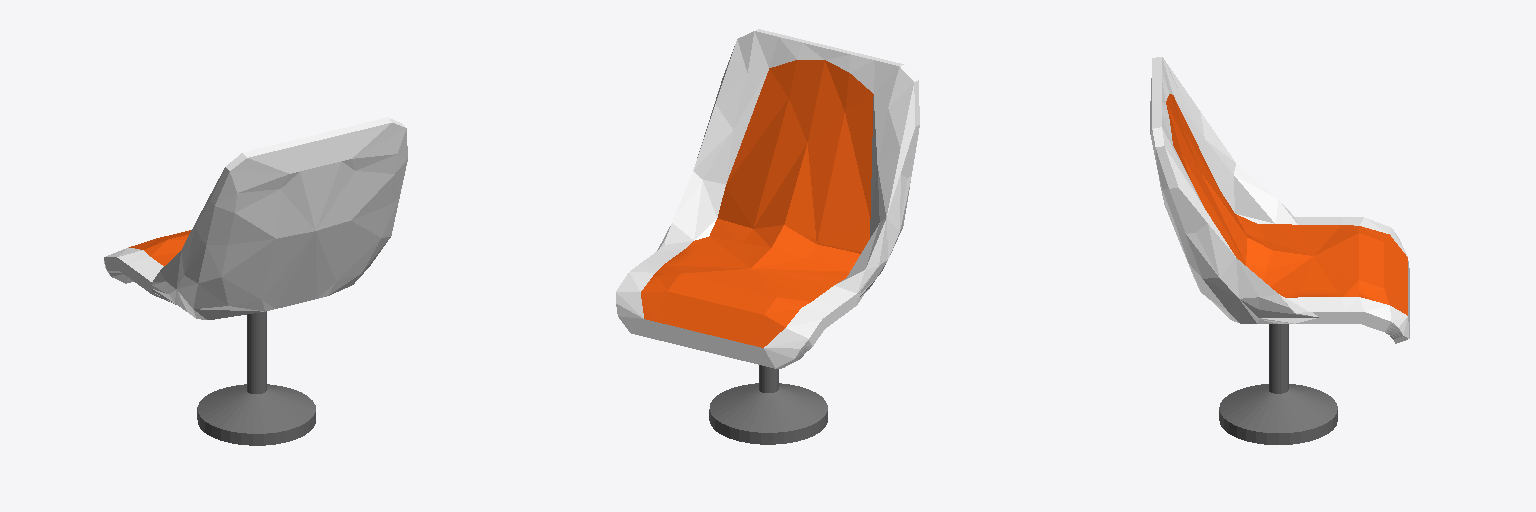
The picture shows the model from 3 angles: view 1: azimuth 30°, elevation 25°; view 2: azimuth 150°, elevation 25°; view 3: azimuth 270°, elevation 25°; orthographic projection.
Visible parts, largest first — view 1: Cube; view 2: Cube; view 3: Cube.
Part boxes in pixels (bbox=[...]): Cube: bbox=[104, 117, 407, 445]; Cube: bbox=[616, 29, 919, 444]; Cube: bbox=[1150, 57, 1409, 444].
Bounding box in the file's own units: 0.9413 × 1.45 × 1.04.
1 materials, 1 textured.